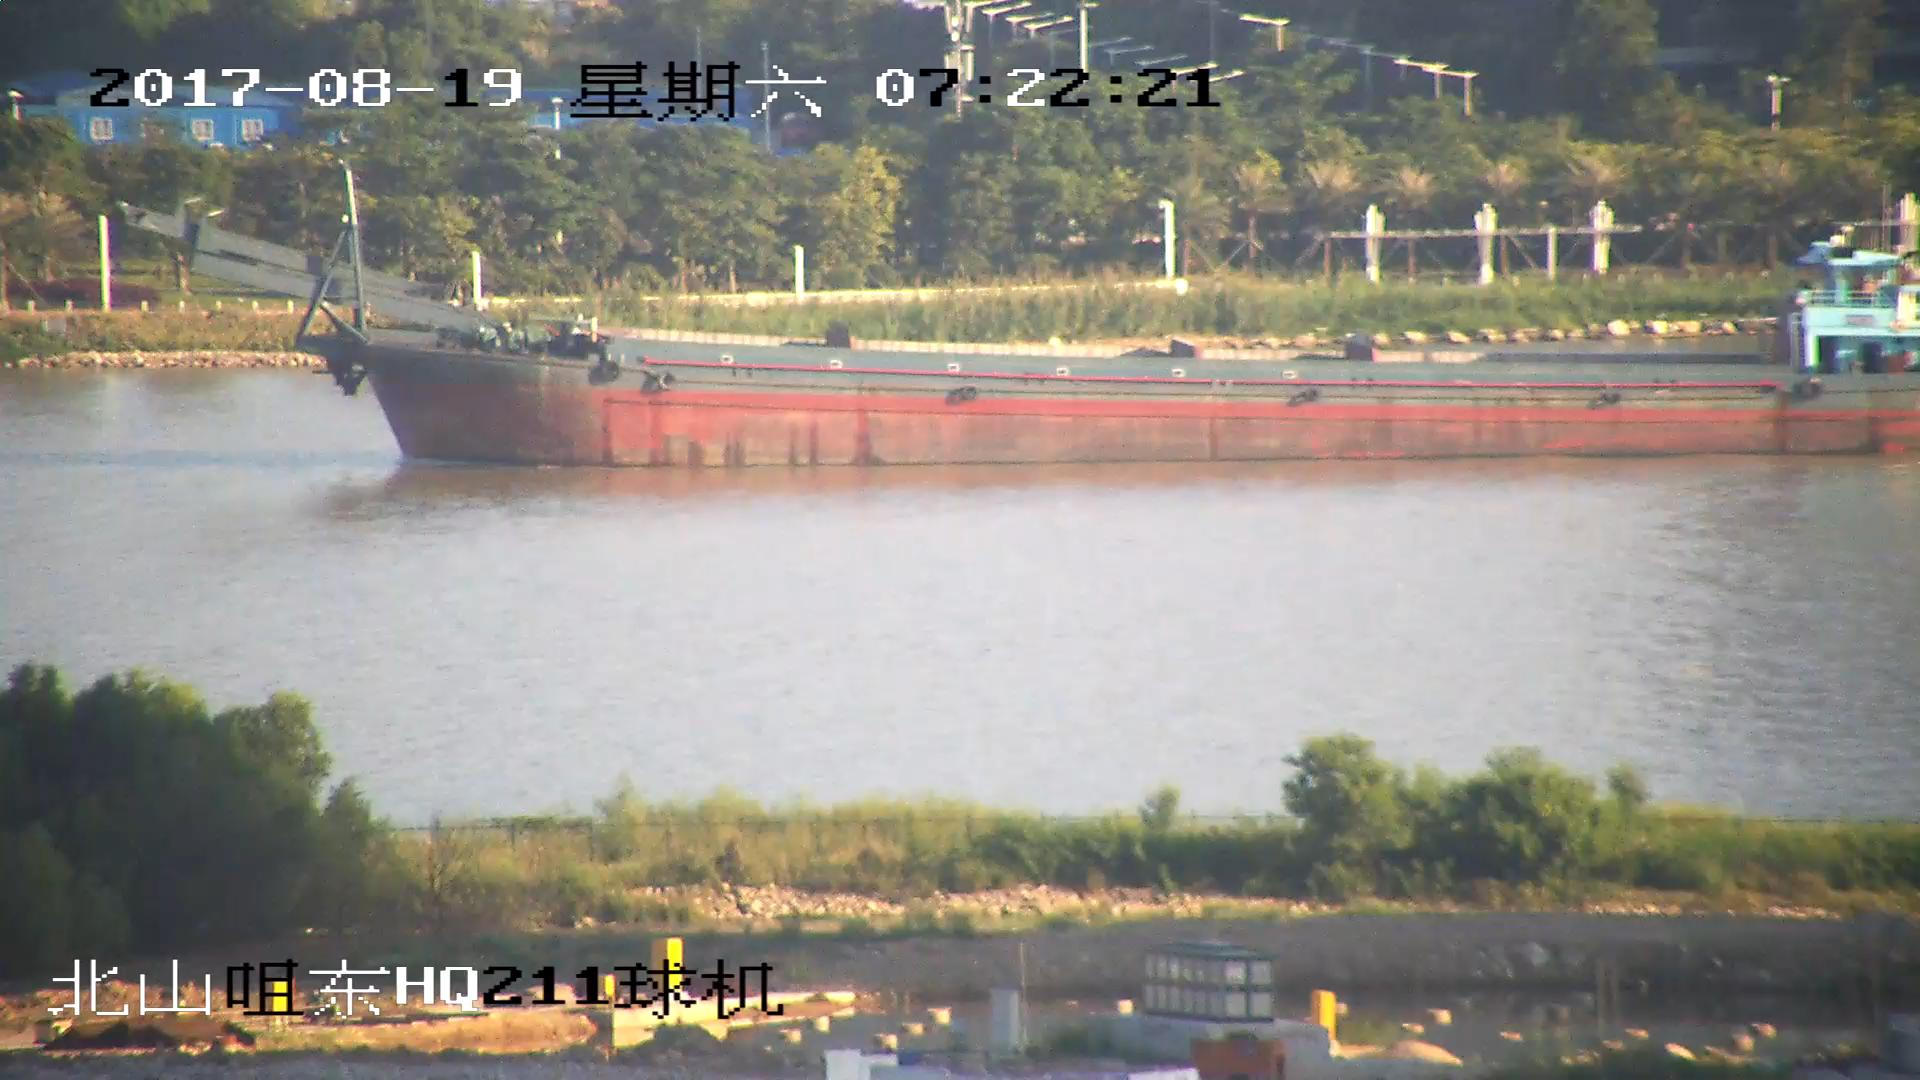bulk cargo carrier: (113, 169, 1920, 465)
